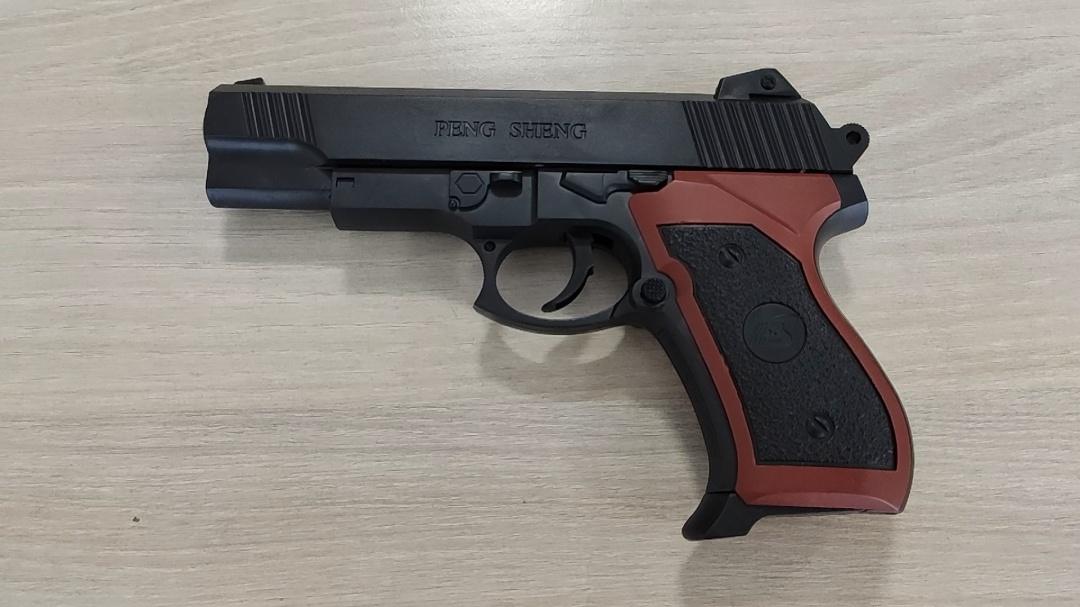gun: (203, 68, 915, 542)
